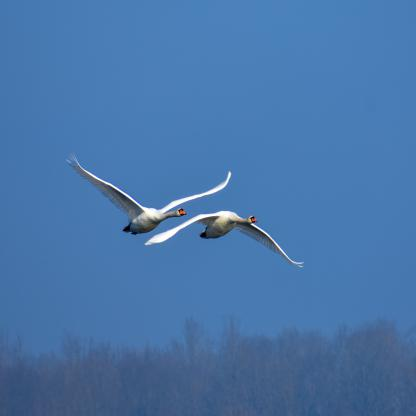bird: (70, 155, 233, 238), (146, 212, 303, 274)
